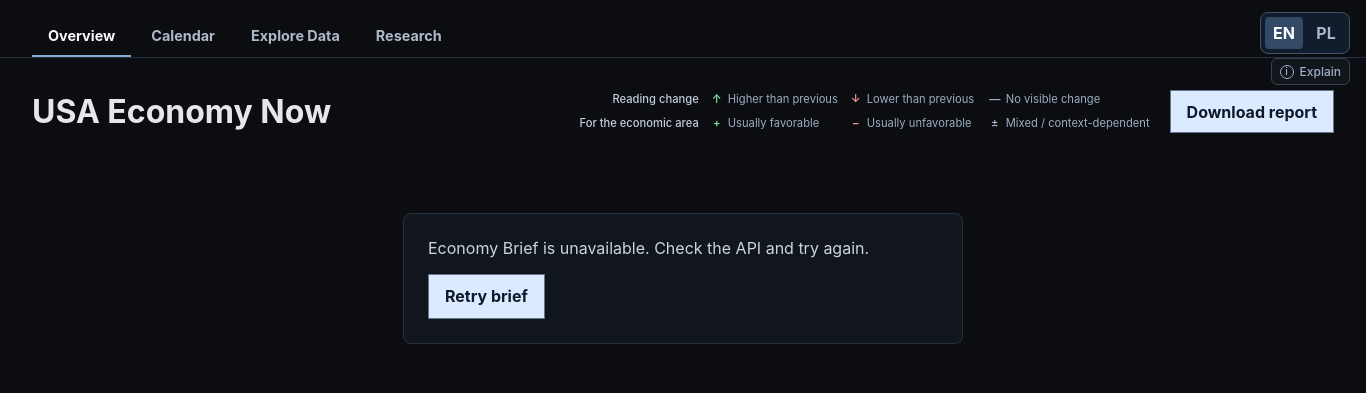
corner switch translates all navigation labels, sets document language and remembers preference
Expected: the heading "USA Economy Now" is shown, [32, 92, 331, 131]
Click the button with aria-label "Polski" at (1326, 33), box [1307, 17, 1345, 49]
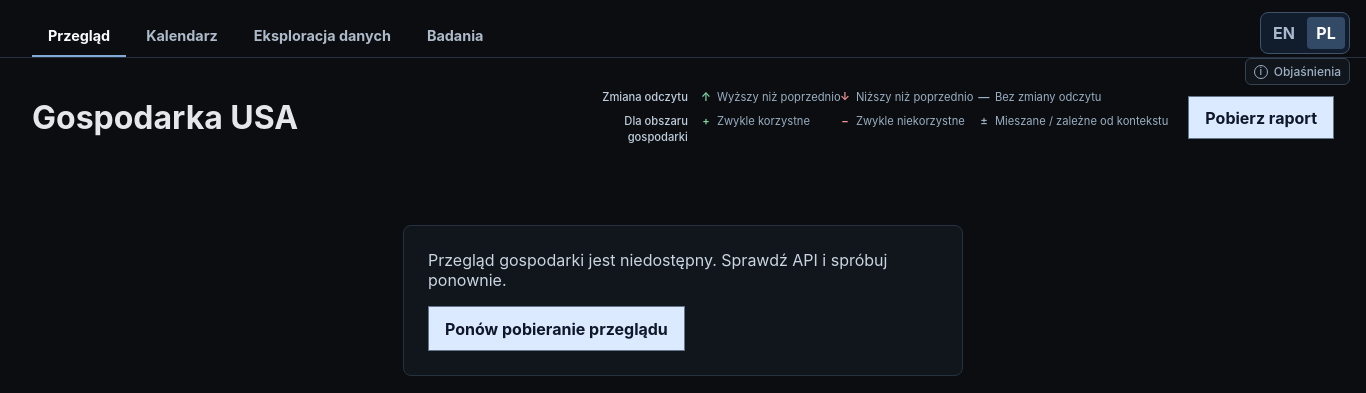
Expected: the link "Przegląd" is shown, [32, 16, 126, 57]
Expected: the link "Eksploracja danych" is shown, [254, 27, 391, 44]
Expected: the link "Badania" is shown, [427, 27, 483, 44]
Click the button with aria-label "English" at (1284, 33), box [1265, 17, 1303, 49]
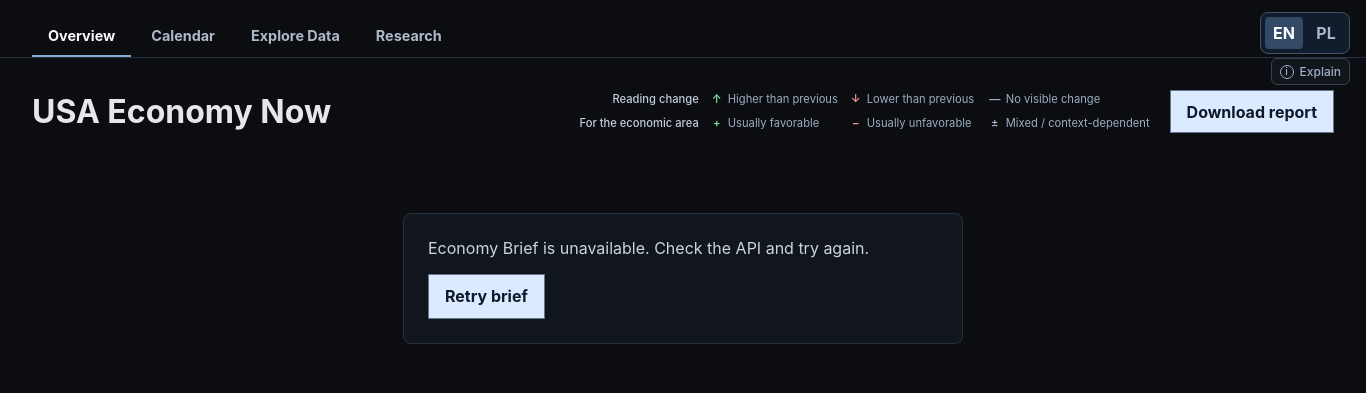
Expected: the link "Overview" is shown, [32, 16, 131, 57]
